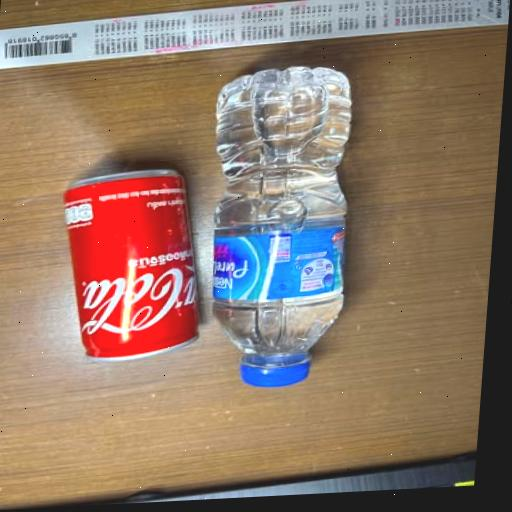bottle: (187, 48, 391, 409)
canned: (42, 127, 210, 402)
